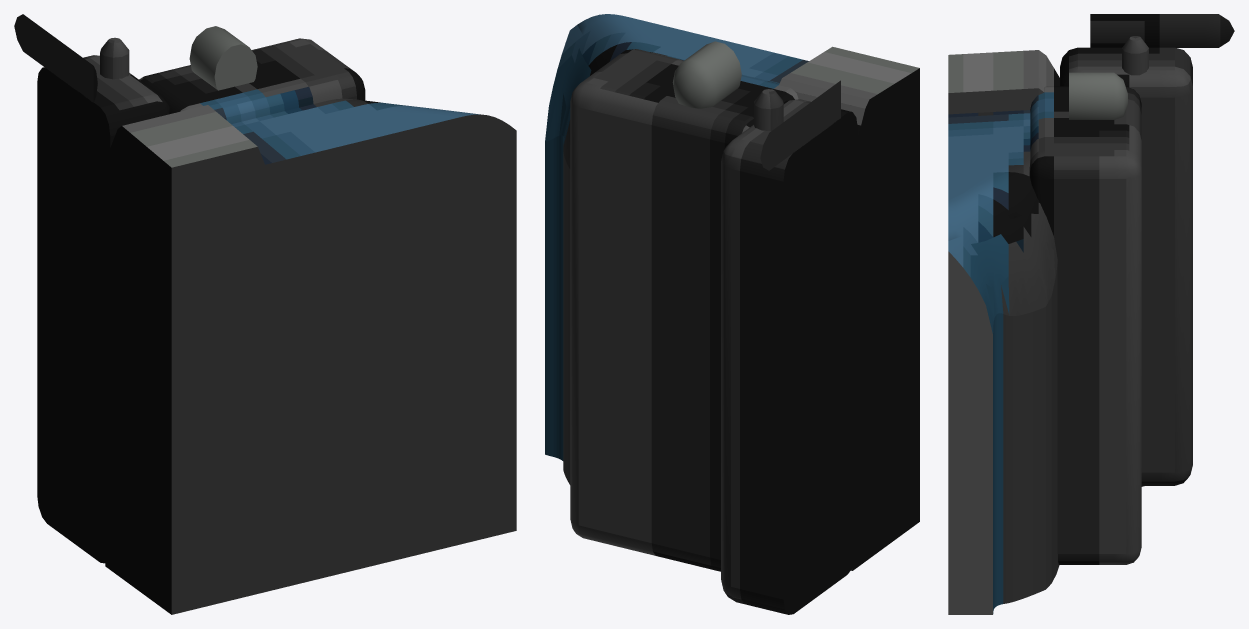
Rendered from fleet_walker_13.glb.
3 renders of one model, left to right at view 1: azimuth 30°, elevation 25°; view 2: azimuth 150°, elevation 25°; view 3: azimuth 270°, elevation 25°, orthographic. The views are drawn at different scales.
Parts seen in each view (by area): view 1: fleet_walker_13_whull, fleet_walker_13_wturret+1, fleet_walker_13_wtsmall+1, fleet_walker_13_wknob+1, fleet_walker_13_wbarrel+1, fleet_walker_13_wpost+1_43.8; view 2: fleet_walker_13_wtsmall+1, fleet_walker_13_wturret+1, fleet_walker_13_whull, fleet_walker_13_wknob+1, fleet_walker_13_wbarrel+1, fleet_walker_13_wpost+1_43.8; view 3: fleet_walker_13_whull, fleet_walker_13_wtsmall+1, fleet_walker_13_wturret+1, fleet_walker_13_wbarrel+1, fleet_walker_13_wknob+1, fleet_walker_13_wpost+1_43.8.
Part boxes in pixels (x1,y1,x2,y2): fleet_walker_13_whull: [105, 98, 516, 614]; fleet_walker_13_wturret+1: [37, 55, 169, 563]; fleet_walker_13_wtsmall+1: [139, 38, 365, 124]; fleet_walker_13_wknob+1: [189, 26, 257, 90]; fleet_walker_13_wbarrel+1: [14, 14, 97, 102]; fleet_walker_13_wpost+1_43.8: [100, 37, 129, 79]; fleet_walker_13_wtsmall+1: [570, 49, 798, 571]; fleet_walker_13_wturret+1: [721, 99, 857, 614]; fleet_walker_13_whull: [545, 14, 919, 570]; fleet_walker_13_wknob+1: [672, 41, 741, 108]; fleet_walker_13_wbarrel+1: [760, 80, 840, 170]; fleet_walker_13_wpost+1_43.8: [754, 89, 783, 131]; fleet_walker_13_whull: [948, 50, 1059, 614]; fleet_walker_13_wtsmall+1: [1029, 86, 1141, 564]; fleet_walker_13_wturret+1: [1060, 47, 1192, 485]; fleet_walker_13_wbarrel+1: [1090, 14, 1234, 47]; fleet_walker_13_wknob+1: [1069, 72, 1127, 119]; fleet_walker_13_wpost+1_43.8: [1122, 36, 1148, 486].
Size of the model in its own units: 23.98 by 32.69 by 18.95.
